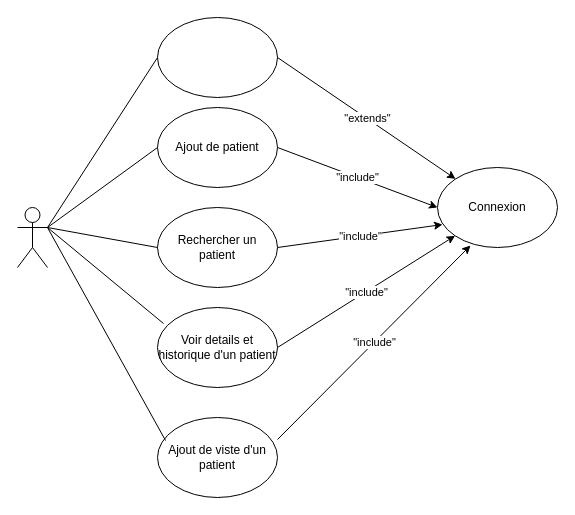
Image size: 575x515. Some labels were removed from this diagram. The box of each missing label's shape, as (x1, y1, x2, y2) in pixels:
Actor: (16, 206, 48, 268)
Inscription: (156, 16, 278, 98)
